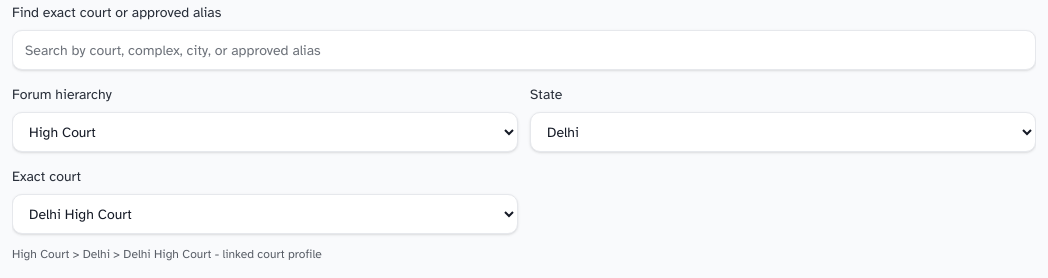
ForumSelector › requires state for High Court selection
This screenshot has width=1048, height=278.
Select "Karnataka" in the dropdown with test id "test-forum-state": (783, 132) [530,112,1036,152]
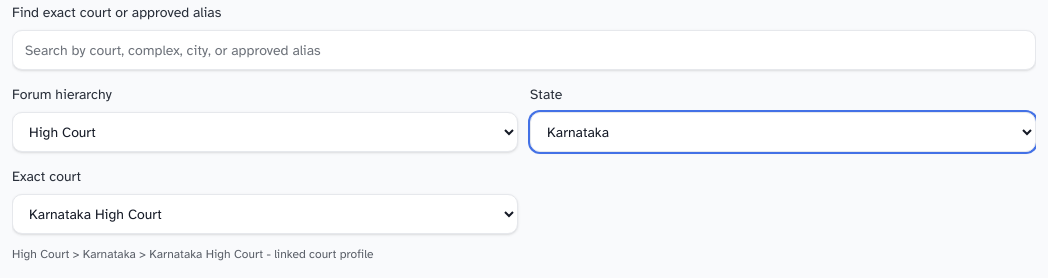
Check: the text "High Court > Karnataka" is shown, box [12,247,263,261]
